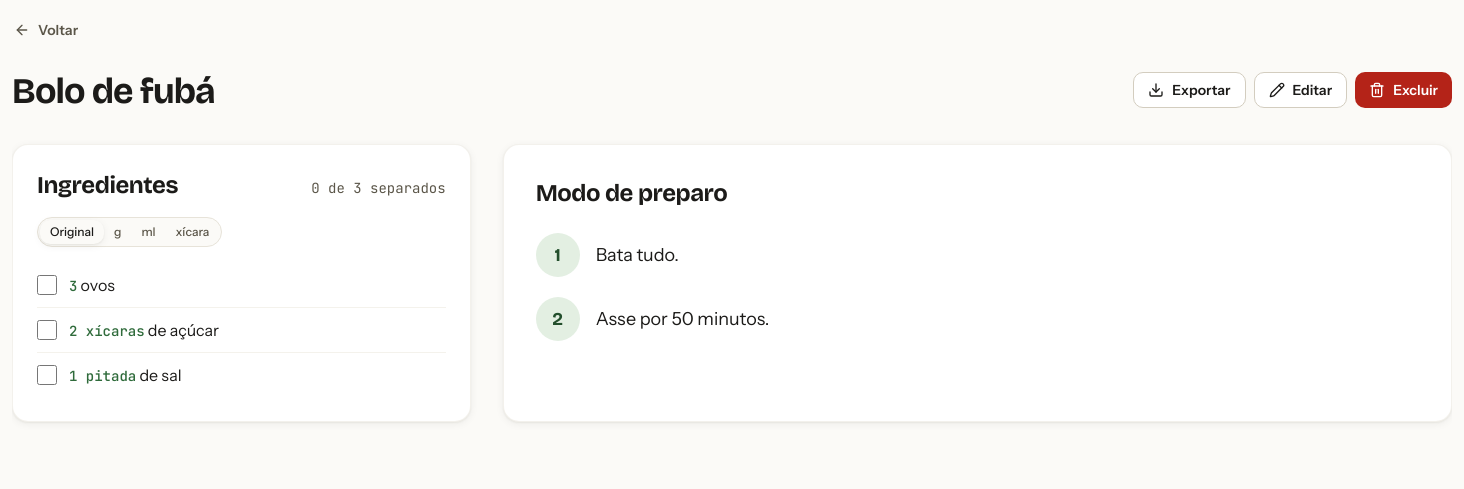
Test: RecipeDetailPage ingredient checklist › renders one checkbox per ingredient and tracks progress
The width and height of the screenshot is (1464, 489).
Check: the heading "Ingredientes" is shown, box top-left (37, 169), bottom-right (178, 201)
Check: the text "0 de 3 separados" is shown, box top-left (311, 178), bottom-right (446, 198)
Click the checkbox labelled "3 ovos" at coordinates (47, 285), box top-left (37, 275), bottom-right (57, 295)
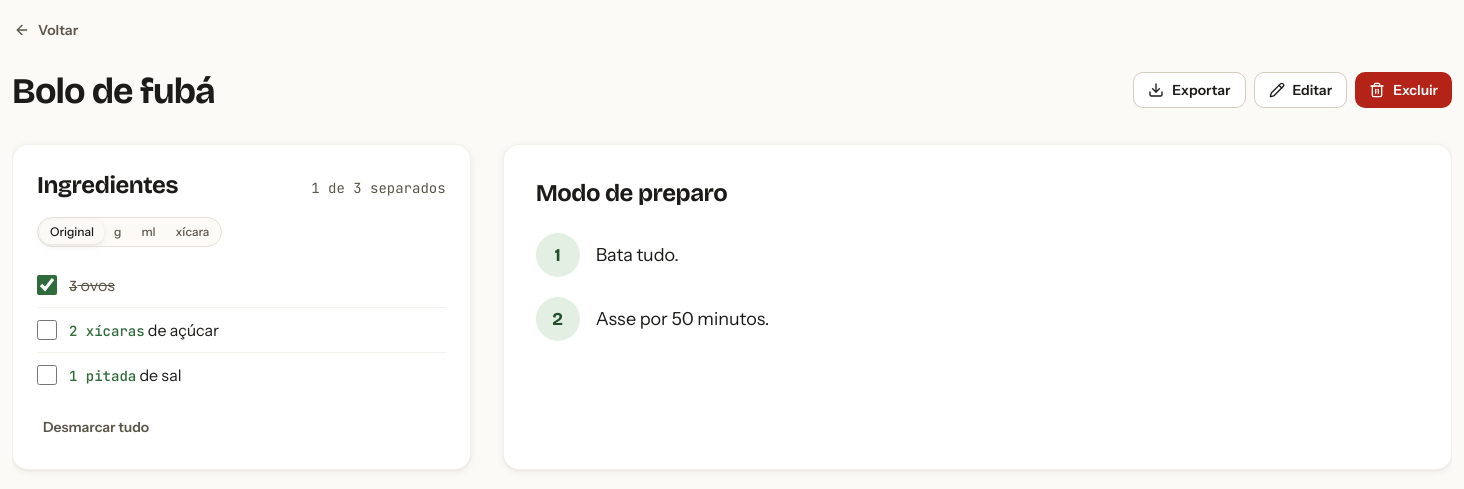
Check: the checkbox labelled "3 ovos" is checked, box top-left (37, 275), bottom-right (57, 295)
Check: the text "1 de 3 separados" is shown, box top-left (311, 178), bottom-right (446, 198)
